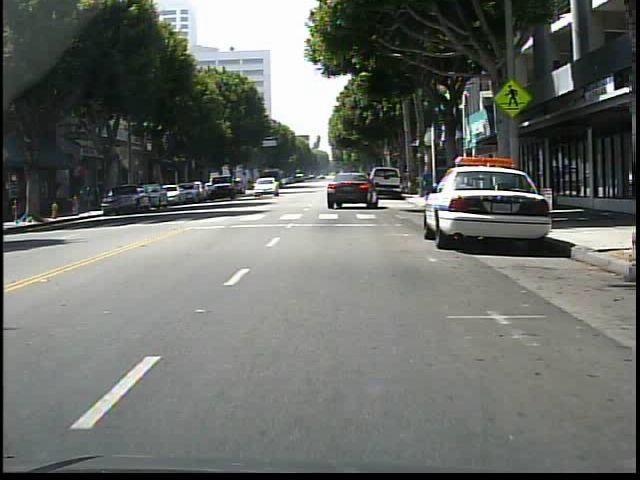person: (420, 165, 441, 206)
